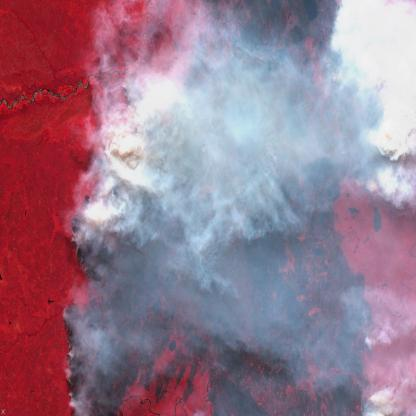fire: (54, 299, 88, 416), (66, 198, 98, 286), (362, 389, 391, 416)
